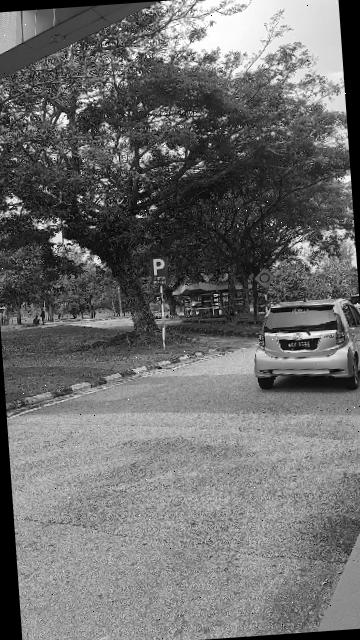License_Plate: (279, 336, 322, 354)
car: (248, 294, 360, 396)
